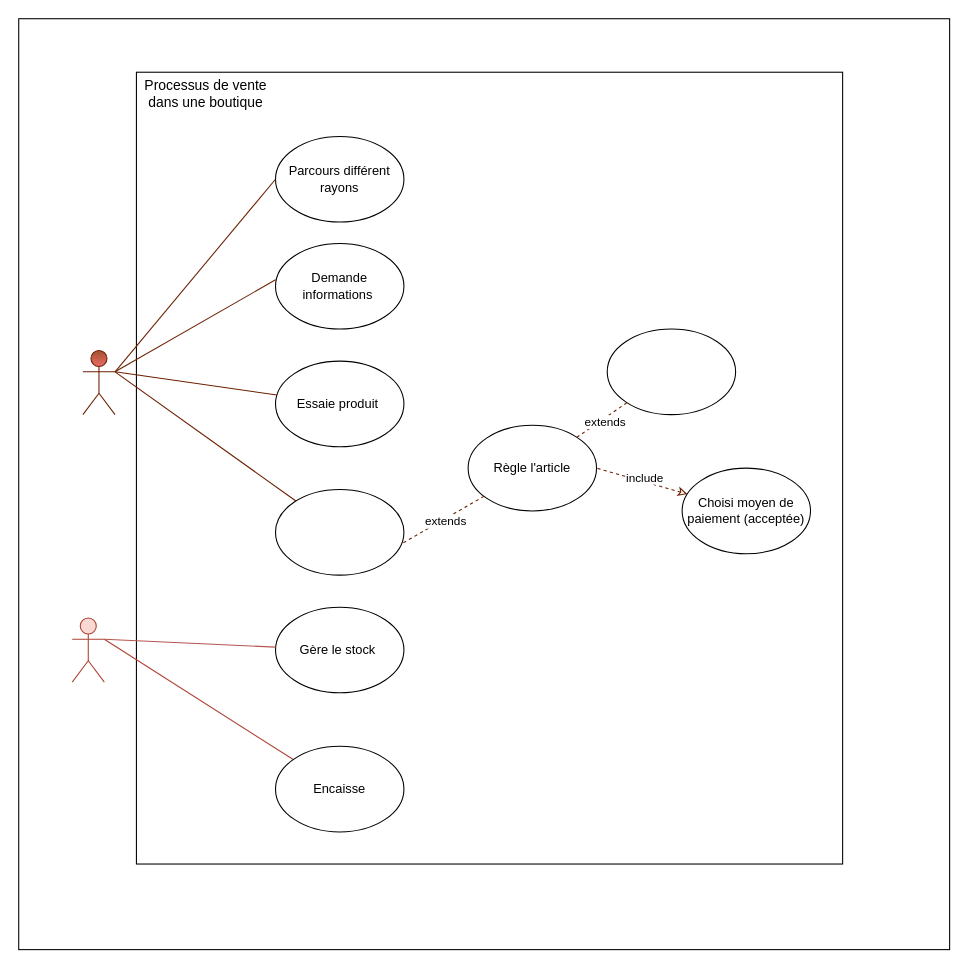
Image size: 968x968. Some labels were removed from this diagram. Each missing label, with the centre of its shape:
"Client" belongs at point 98,382.
"Gérante" belongs at point 87,649.
"Peut avoir une remise" belongs at point 671,371.
"sélectionne le produit" belongs at point 339,531.
